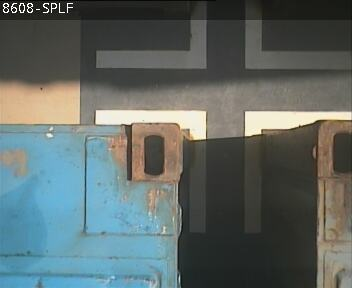groundmarker_1: (95, 109, 352, 234), (95, 1, 352, 68)
